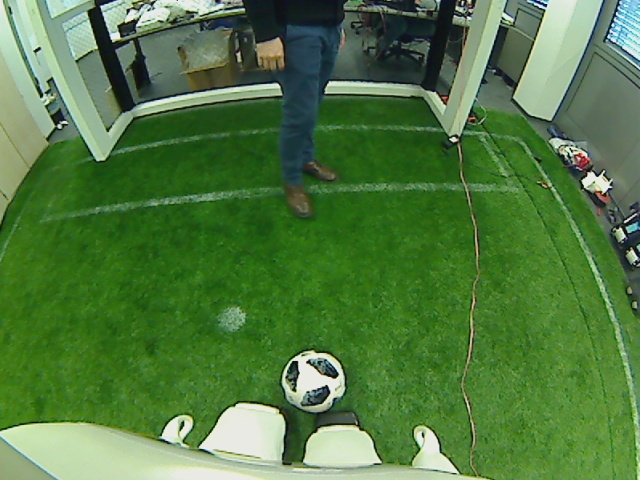ball: (279, 347, 348, 411)
